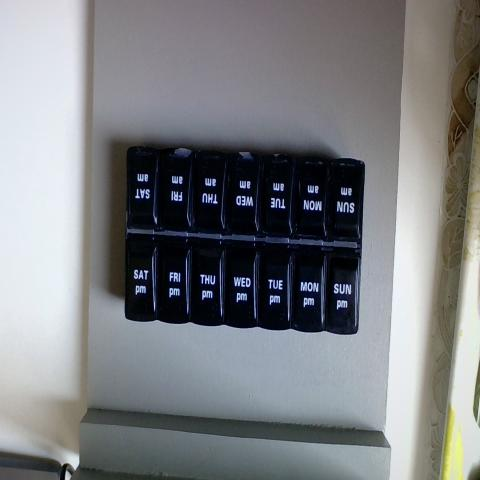FRI-am: (159, 150, 189, 231)
FRI-pm: (159, 233, 191, 318)
MON-am: (298, 152, 326, 236)
MON-pm: (292, 247, 326, 326)
PillBox: (104, 126, 379, 356)
SAT-am: (128, 148, 158, 235)
SAT-pm: (128, 239, 156, 320)
SUN-am: (330, 156, 362, 239)
SUN-pm: (328, 246, 356, 325)
THU-am: (192, 145, 226, 230)
THU-pm: (192, 239, 223, 321)
TUE-am: (261, 149, 292, 234)
TUE-pm: (260, 246, 289, 326)
WED-am: (226, 149, 260, 232)
WED-pm: (222, 241, 258, 326)
